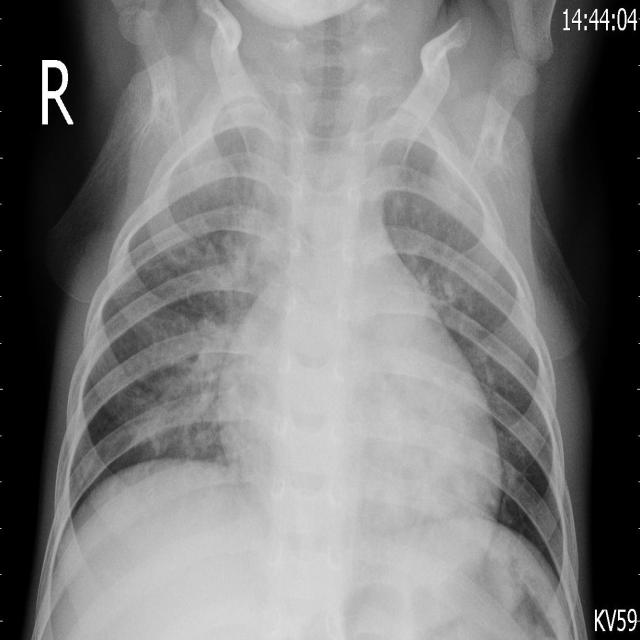high-pneumonia: (207, 109, 293, 321)
low-pneumonia: (132, 307, 234, 457), (411, 218, 476, 338)
